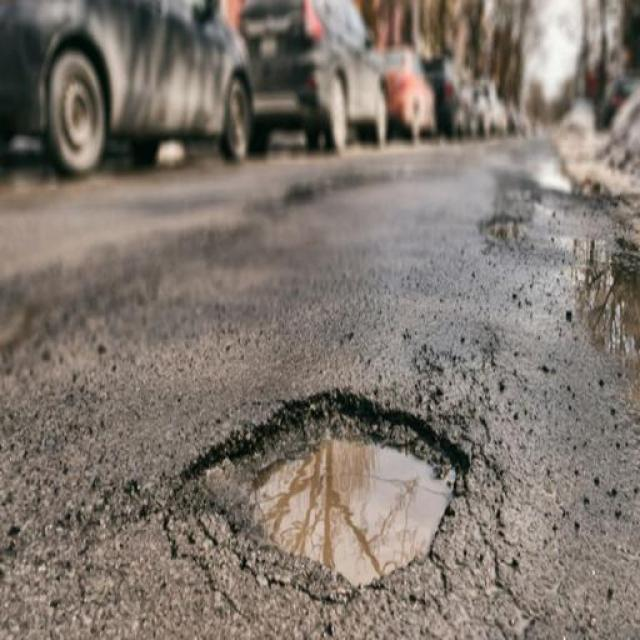puddle: (267, 433, 426, 582)
